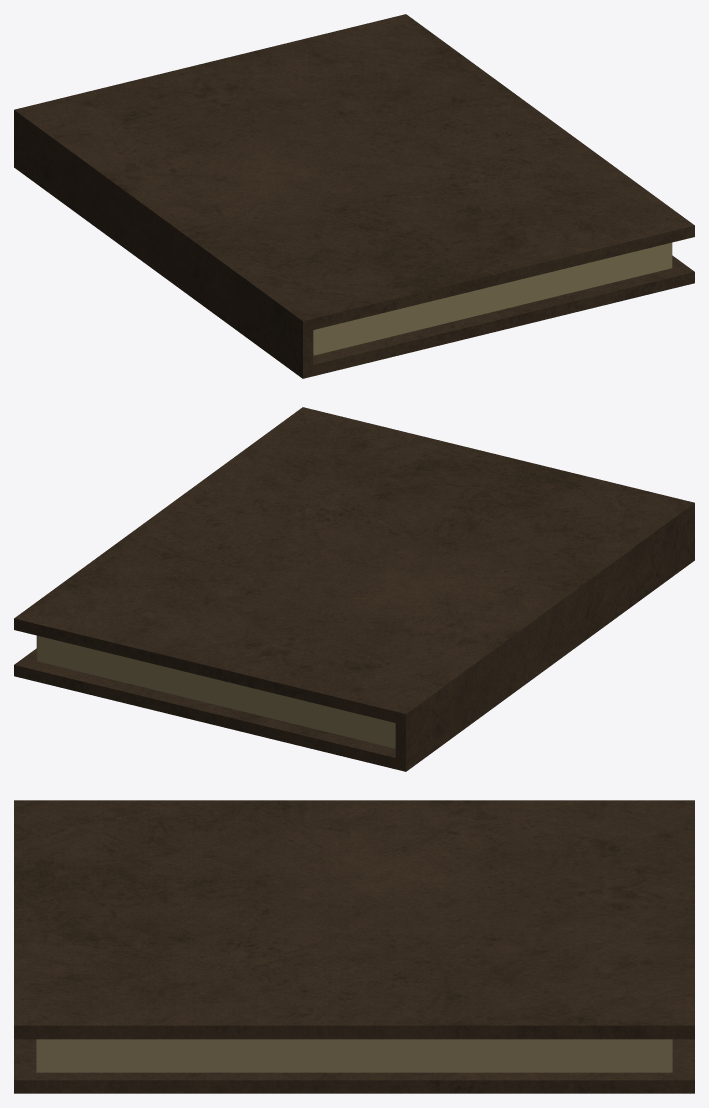
The model's file is Ancient_Book_BACKUP_version.fbx.
3 renders of one model, top to bottom at view 1: azimuth 30°, elevation 25°; view 2: azimuth 150°, elevation 25°; view 3: azimuth 270°, elevation 25°, orthographic. The views are drawn at different scales.
Parts seen in each view (by area): view 1: pCube1; view 2: pCube1; view 3: pCube1.
Part boxes in pixels (left/top/right/bottom): pCube1: left=14, top=14, right=694, bottom=378; pCube1: left=14, top=407, right=694, bottom=771; pCube1: left=14, top=800, right=694, bottom=1093.
Size of the model in its own units: 7.63 by 1.07 by 9.74.
1 material, 1 textured.
